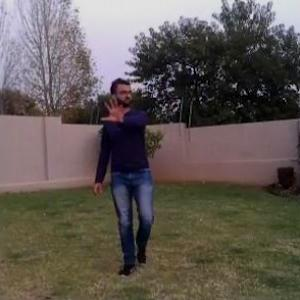follow_hand: (99, 93, 130, 123)
